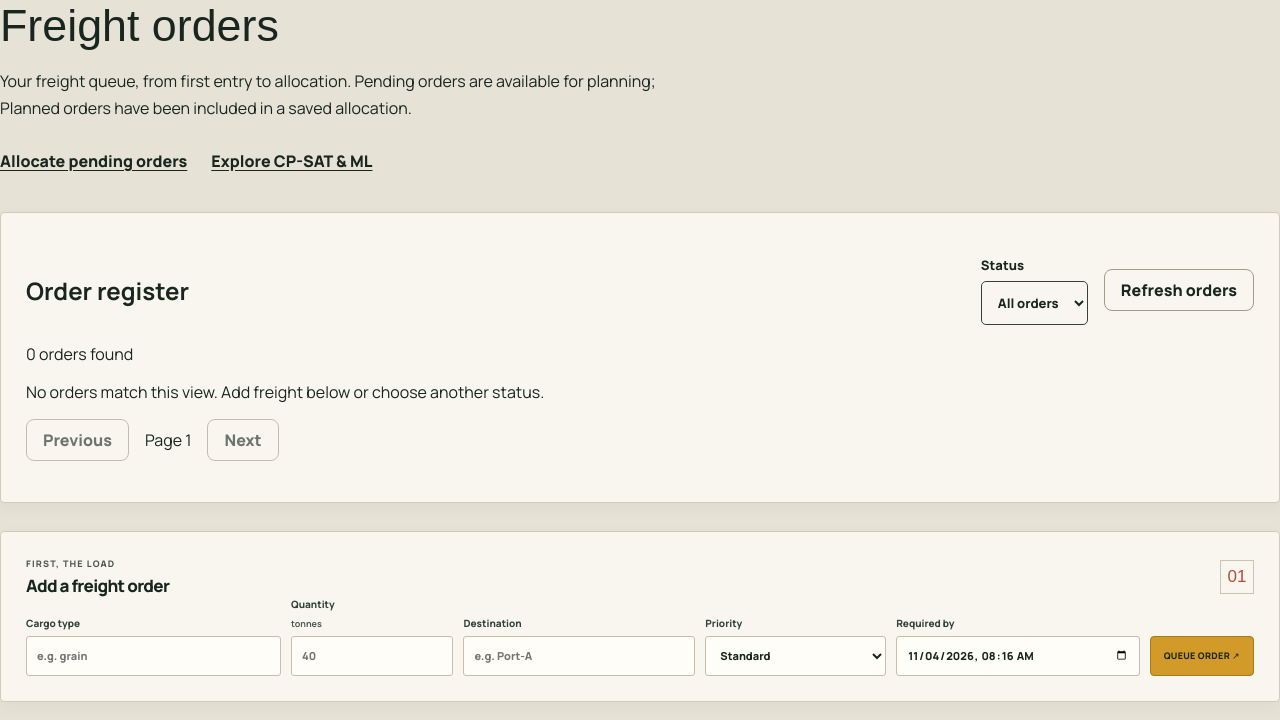
refreshes the register after creating freight
expect the text "No orders match" is shown: met, box x1=26 y1=381 x2=544 y2=403
Type "grain" into the field labelled "Cargo type" at (154, 656), box x1=26 y1=636 x2=281 y2=676
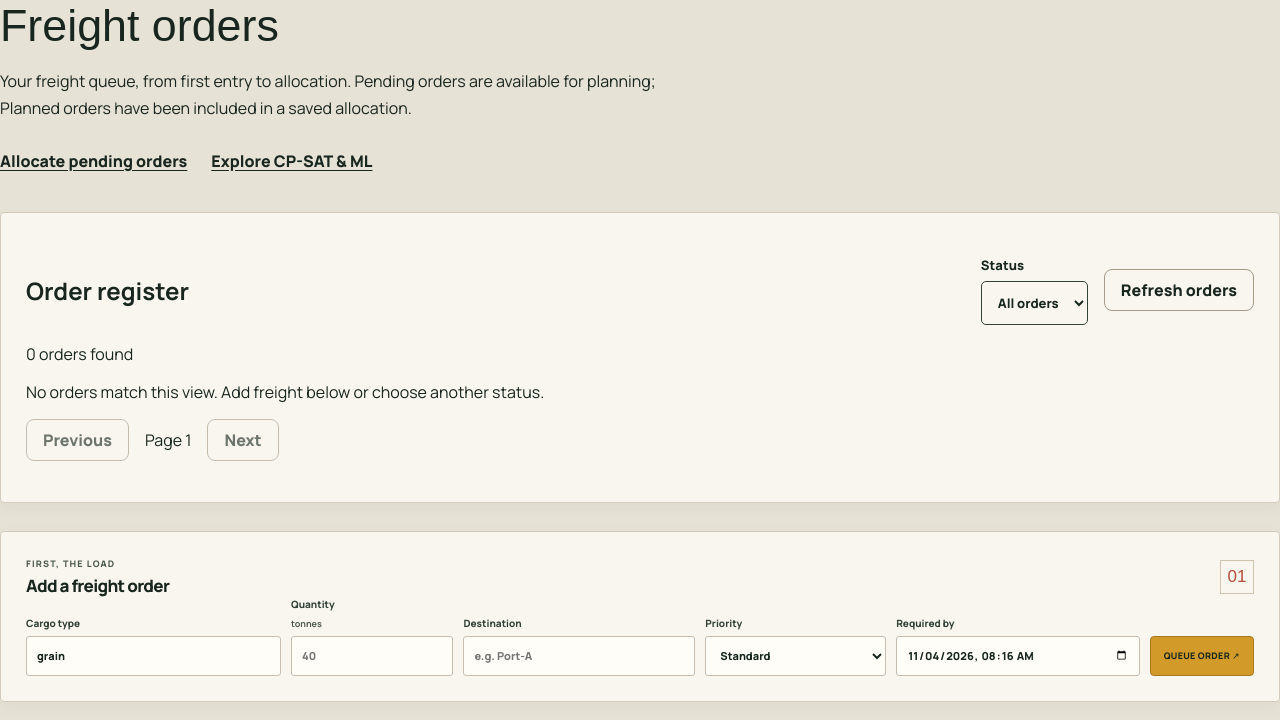
Type "20" into the number field labelled "Quantity tonnes" at (372, 656), box x1=291 y1=636 x2=453 y2=676
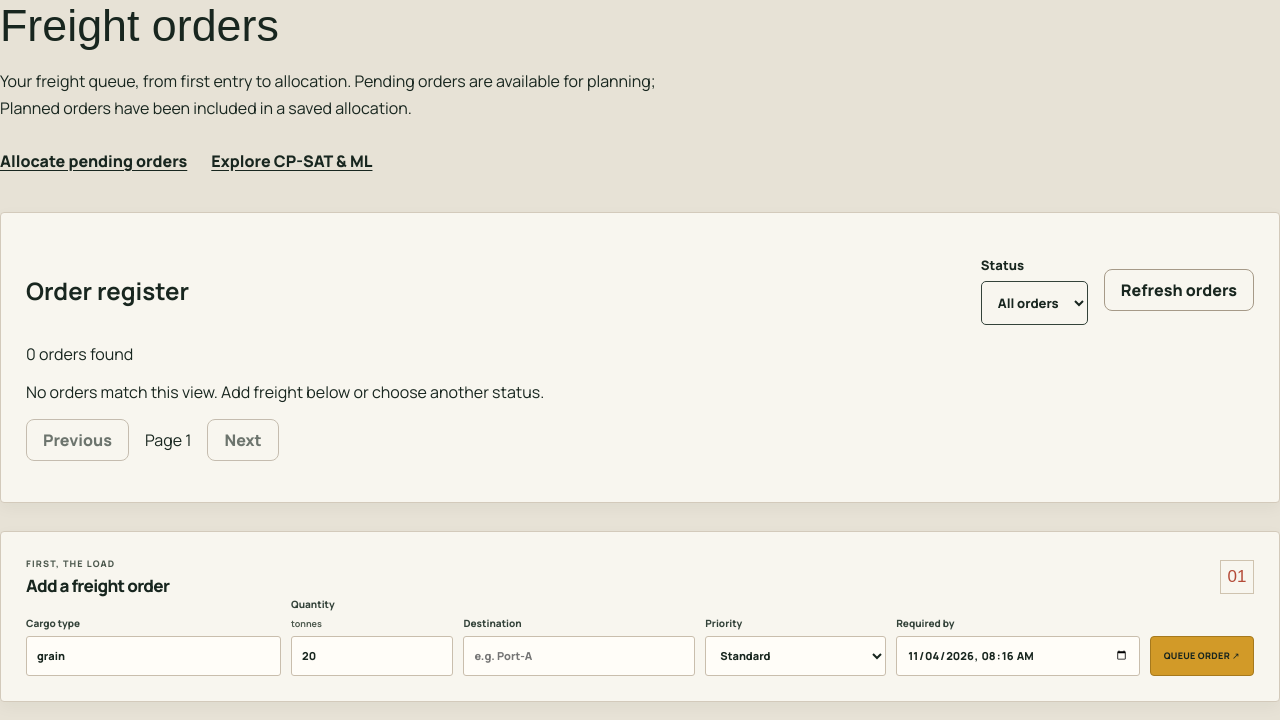
Type "Port-A" into the field labelled "Destination" at (579, 656), box x1=463 y1=636 x2=695 y2=676
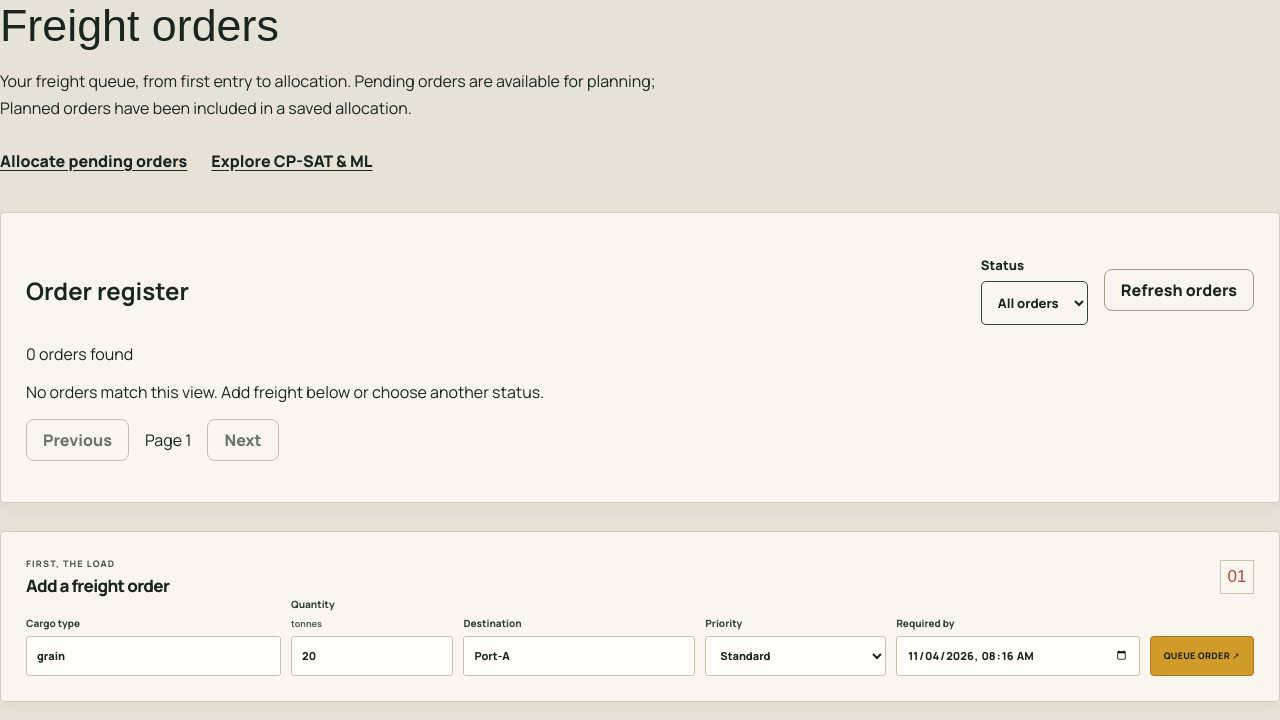
Replace the text in the field labelled "Required by" with "2026-11-10T10:00" at (1018, 656), box x1=896 y1=636 x2=1140 y2=676
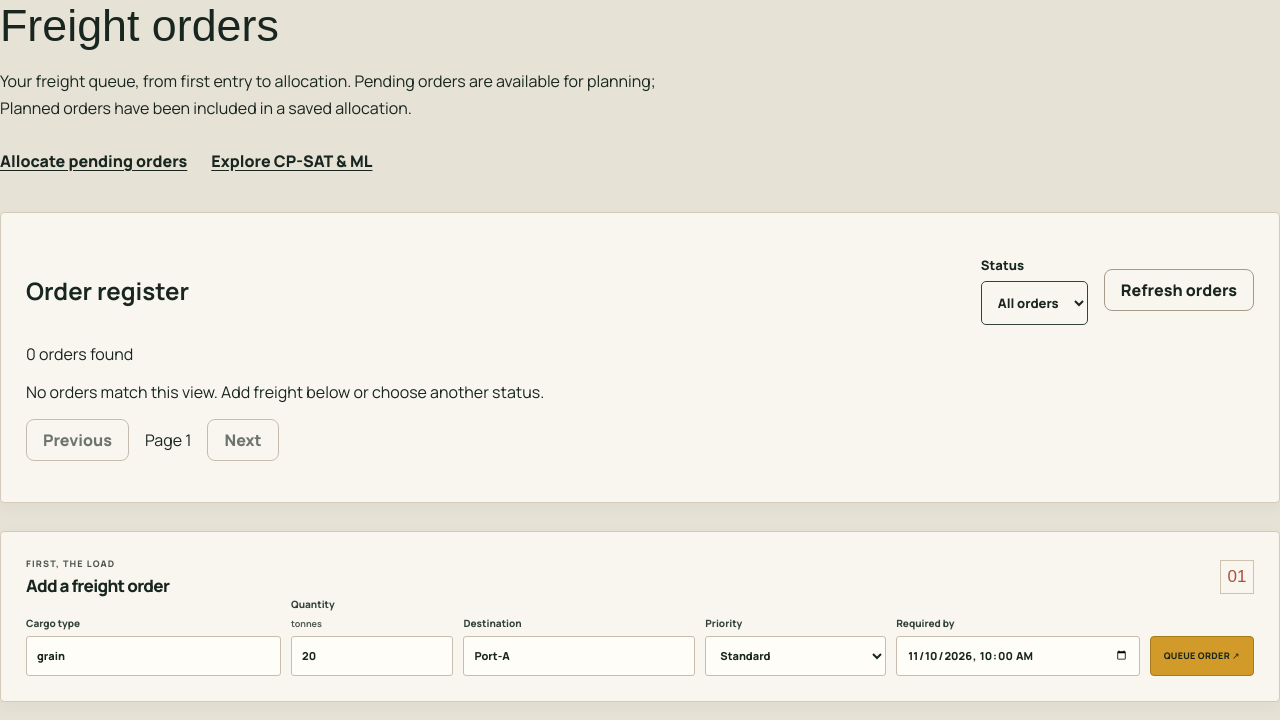
Submit the form labelled "Cargo type", box x1=26 y1=597 x2=1254 y2=676
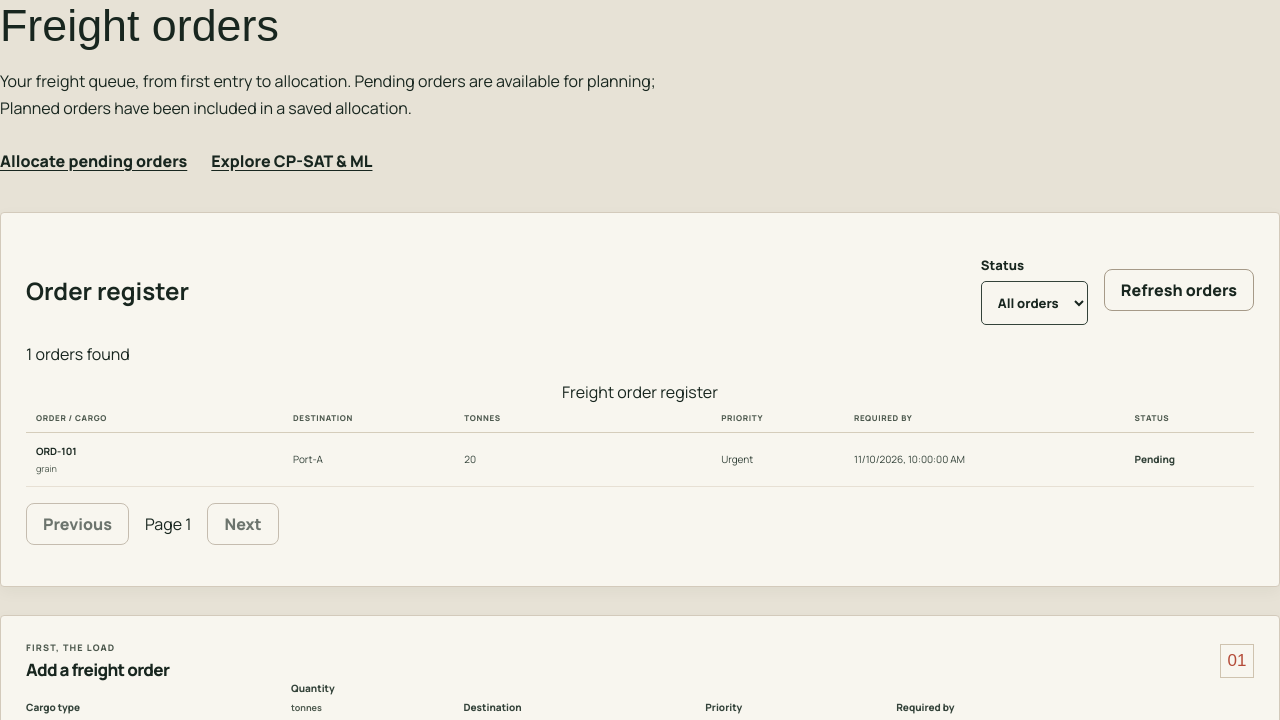
expect the text "ORD-101" is shown: met, box x1=36 y1=444 x2=77 y2=458
